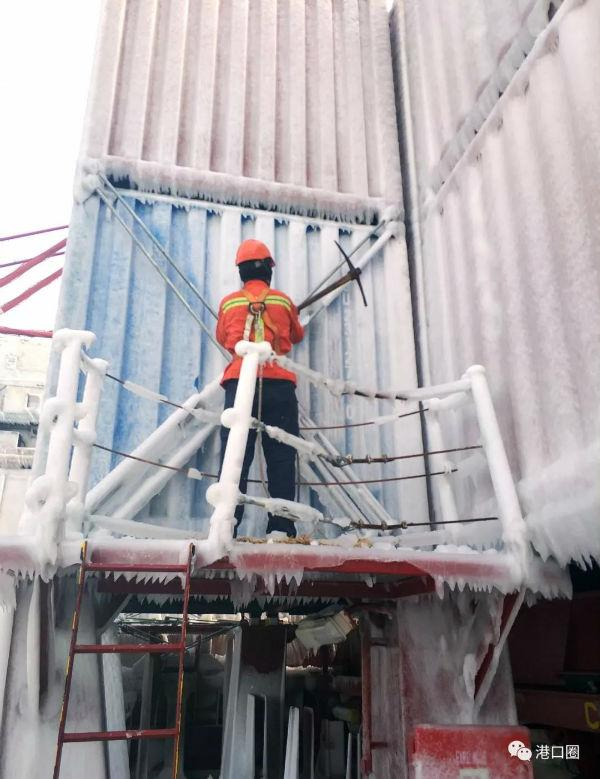helmet: (235, 237, 275, 269)
